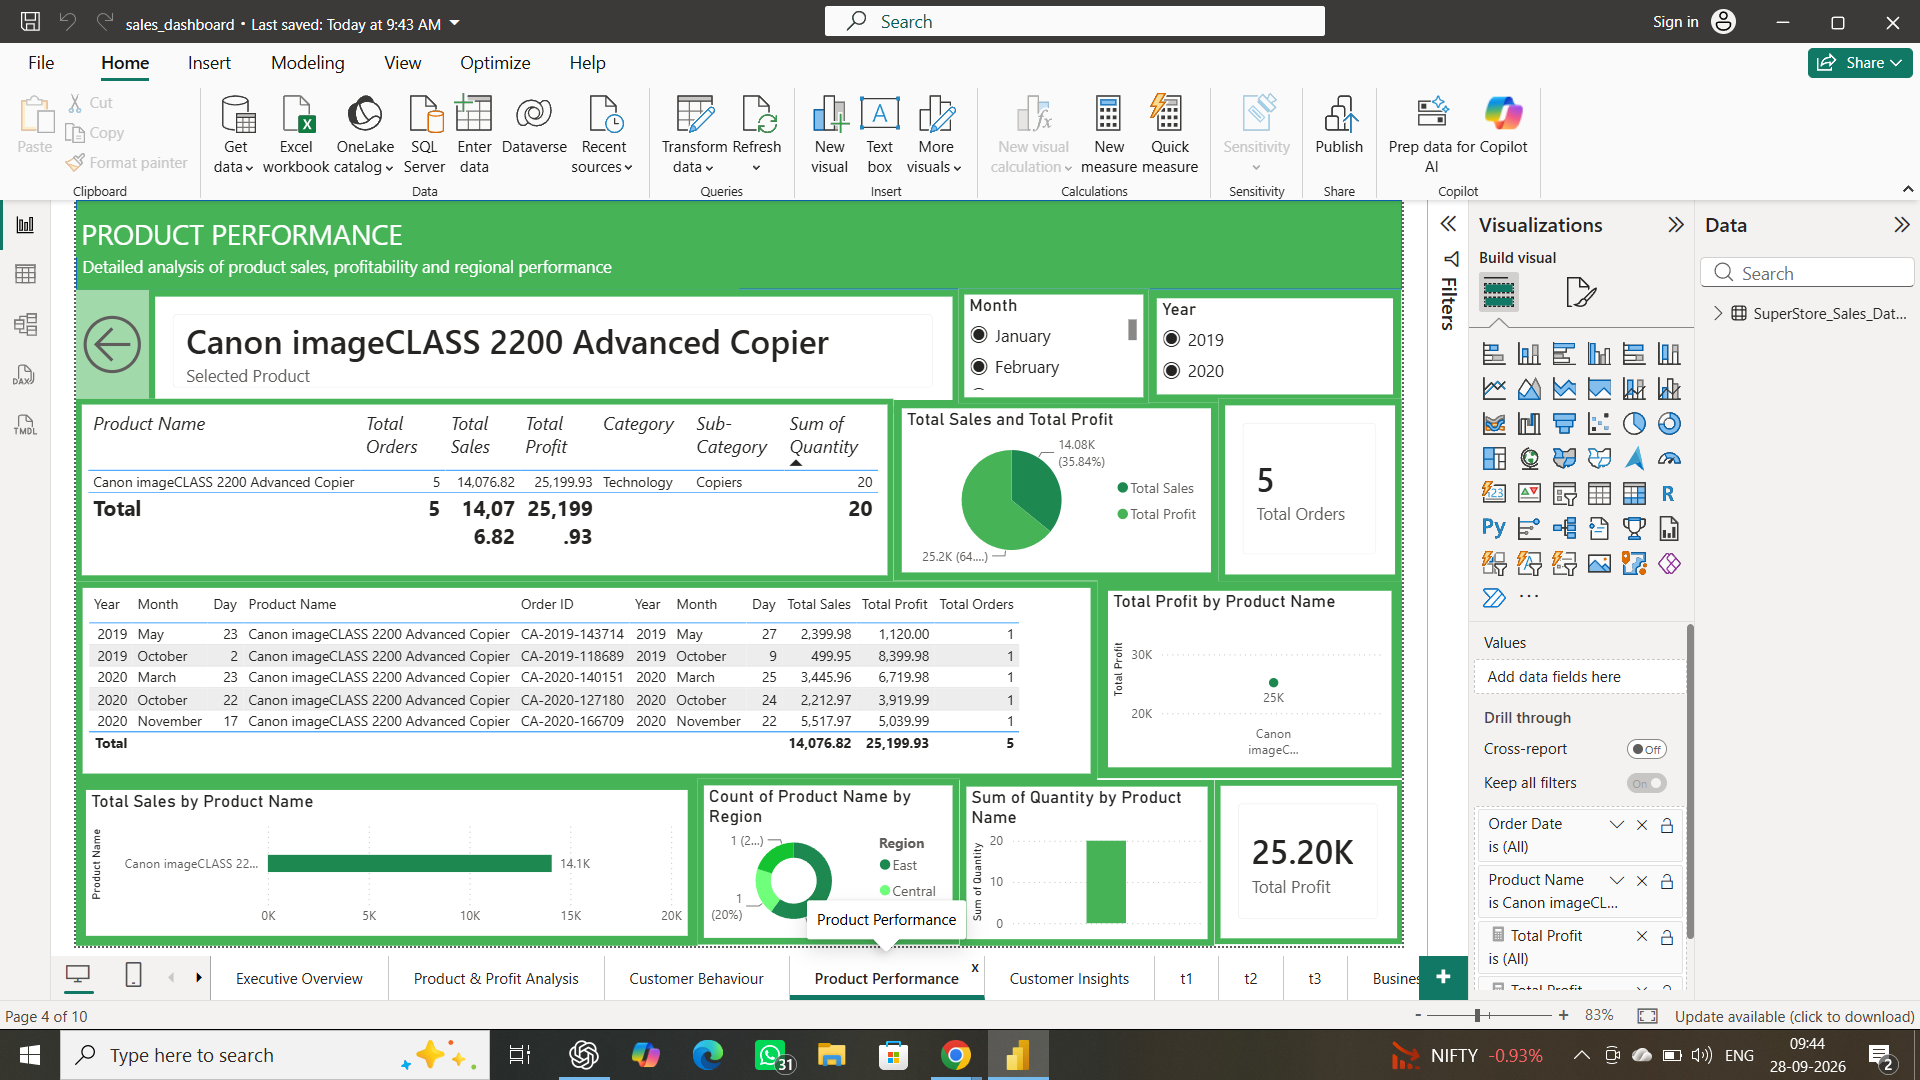

What the dashboard file says about the page in this screenshot:
{"tool":"powerbi","page":{"name":"Product Performance","canvas":[1280,720],"ordinal":3},"visuals":[{"type":"shape","box":[0,0,1280.3,86.4],"z":0},{"type":"textbox","box":[0,9.6,852.1,45.3],"z":1000},{"type":"textbox","box":[1.4,48,639.5,38.4],"z":2000},{"type":"actionButton","box":[0,86.4,70,105.7],"z":3000},{"type":"cardVisual","fields":{"Data":["SuperStore_Sales_Dataset.Selected Product"]},"box":[70,86.4,782.2,119.4],"z":4000},{"type":"tableEx","fields":{"Values":["SuperStore_Sales_Dataset.Product Name","SuperStore_Sales_Dataset.Total Orders","SuperStore_Sales_Dataset.Total Sales","SuperStore_Sales_Dataset.Total Profit","SuperStore_Sales_Dataset.Category","SuperStore_Sales_Dataset.Sub-Category","Sum(SuperStore_Sales_Dataset.Quantity)"]},"box":[0,191.4,788.6,175.7],"z":5000},{"type":"tableEx","fields":{"Values":["SuperStore_Sales_Dataset.Order Date.Variation.Date Hierarchy.Year","SuperStore_Sales_Dataset.Order Date.Variation.Date Hierarchy.Month","SuperStore_Sales_Dataset.Order Date.Variation.Date Hierarchy.Day","SuperStore_Sales_Dataset.Product Name","SuperStore_Sales_Dataset.Order ID","SuperStore_Sales_Dataset.Ship Date.Variation.Date Hierarchy.Year","SuperStore_Sales_Dataset.Ship Date.Variation.Date Hierarchy.Month","SuperStore_Sales_Dataset.Ship Date.Variation.Date Hierarchy.Day","SuperStore_Sales_Dataset.Total Sales","SuperStore_Sales_Dataset.Total Profit","SuperStore_Sales_Dataset.Total Orders"]},"box":[0,367.8,985.3,192.1],"z":6000},{"type":"clusteredBarChart","fields":{"Category":["SuperStore_Sales_Dataset.Product Name"],"Y":["SuperStore_Sales_Dataset.Total Sales"]},"box":[0,560,600,160],"z":7000},{"type":"pieChart","fields":{"Y":["SuperStore_Sales_Dataset.Total Sales","SuperStore_Sales_Dataset.Total Profit"]},"box":[788.6,192.9,314.3,174.3],"z":8000},{"type":"donutChart","fields":{"Category":["SuperStore_Sales_Dataset.Region"],"Y":["CountNonNull(SuperStore_Sales_Dataset.Product Name)"]},"box":[600,558.6,252.9,160],"z":9000},{"type":"listSlicer","fields":{"Values":["SuperStore_Sales_Dataset.Order Date.Variation.Date Hierarchy.Month"]},"box":[851.2,86.2,183.8,110],"z":10000},{"type":"columnChart","fields":{"Category":["SuperStore_Sales_Dataset.Product Name"],"Y":["Sum(SuperStore_Sales_Dataset.Quantity)"]},"box":[852.9,560,245.7,160],"z":11000},{"type":"listSlicer","fields":{"Values":["SuperStore_Sales_Dataset.Order Date.Variation.Date Hierarchy.Year"]},"box":[1035.7,87.1,244.3,108.6],"z":12000},{"type":"stackedAreaChart","fields":{"Category":["SuperStore_Sales_Dataset.Product Name"],"Y":["SuperStore_Sales_Dataset.Total Profit"]},"box":[985.7,367.1,294.3,191.4],"z":13000},{"type":"cardVisual","fields":{"Data":["SuperStore_Sales_Dataset.Total Orders"]},"box":[1102.9,191.4,177.1,175.7],"z":14000},{"type":"cardVisual","fields":{"Data":["SuperStore_Sales_Dataset.Total Profit"]},"box":[1098.6,560,181.4,158.6],"z":15000}]}

Visuals, with their boxes on the page's 1280x720 design canvas (x1, y1, x2, y2). These are canvas units, not pixel positions in the 1920x1080 screenshot, which may show the page scaled, cropped or inside an application window:
shape: (0,0,1280,86)
textbox: (0,10,852,55)
textbox: (1,48,641,86)
actionButton: (0,86,70,192)
cardVisual - SuperStore_Sales_Dataset.Selected Product: (70,86,852,206)
tableEx - SuperStore_Sales_Dataset.Product Name x SuperStore_Sales_Dataset.Total Orders: (0,191,789,367)
tableEx - SuperStore_Sales_Dataset.Order Date.Variation.Date Hierarchy.Year x SuperStore_Sales_Dataset.Order Date.Variation.Date Hierarchy.Month: (0,368,985,560)
clusteredBarChart - SuperStore_Sales_Dataset.Product Name x SuperStore_Sales_Dataset.Total Sales: (0,560,600,720)
pieChart - SuperStore_Sales_Dataset.Total Sales x SuperStore_Sales_Dataset.Total Profit: (789,193,1103,367)
donutChart - SuperStore_Sales_Dataset.Region x CountNonNull(SuperStore_Sales_Dataset.Product Name): (600,559,853,719)
listSlicer - SuperStore_Sales_Dataset.Order Date.Variation.Date Hierarchy.Month: (851,86,1035,196)
columnChart - SuperStore_Sales_Dataset.Product Name x Sum(SuperStore_Sales_Dataset.Quantity): (853,560,1099,720)
listSlicer - SuperStore_Sales_Dataset.Order Date.Variation.Date Hierarchy.Year: (1036,87,1280,196)
stackedAreaChart - SuperStore_Sales_Dataset.Product Name x SuperStore_Sales_Dataset.Total Profit: (986,367,1280,558)
cardVisual - SuperStore_Sales_Dataset.Total Orders: (1103,191,1280,367)
cardVisual - SuperStore_Sales_Dataset.Total Profit: (1099,560,1280,719)
